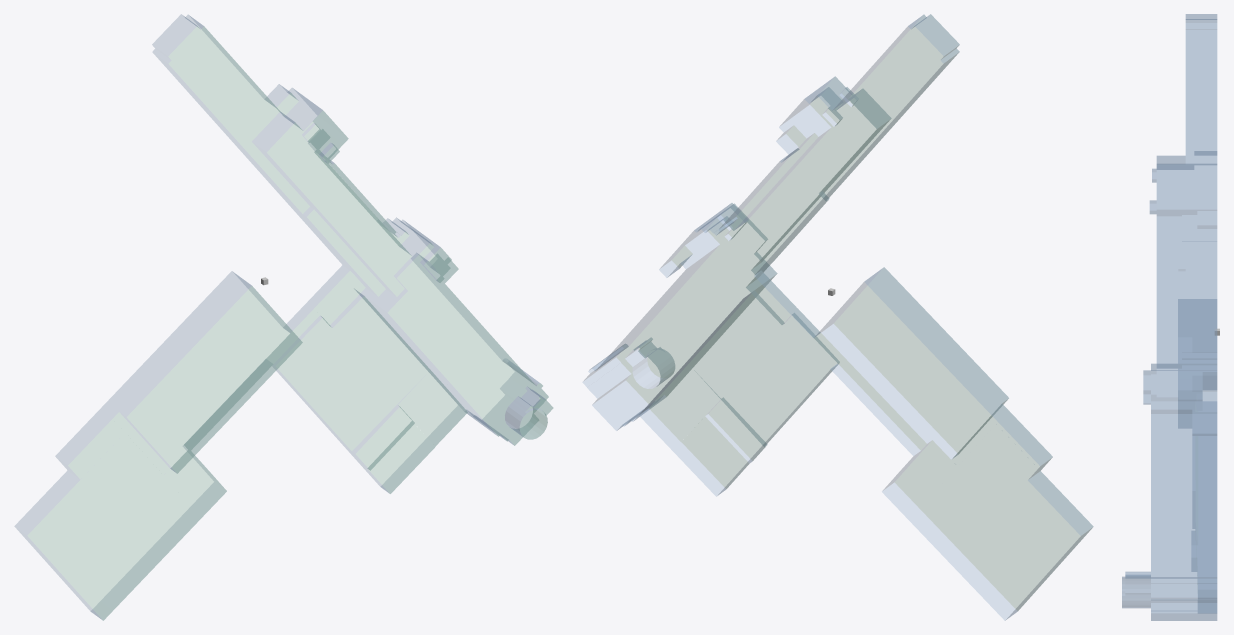
The model's file is van_nelle.dae.
The picture shows the model from 3 angles, left to right: view 1: azimuth 30°, elevation 25°; view 2: azimuth 150°, elevation 25°; view 3: azimuth 270°, elevation 25°; orthographic projection. The views are drawn at different scales.
Parts seen in each view (by area): view 1: Mesh; view 2: Mesh; view 3: Mesh.
Part boxes in pixels (box(x1,y1,x2,y2)): Mesh: box(14, 14, 553, 620); Mesh: box(582, 14, 1093, 620); Mesh: box(1122, 14, 1217, 620).
Bounding box in the file's own units: 213 × 37.17 × 234.
